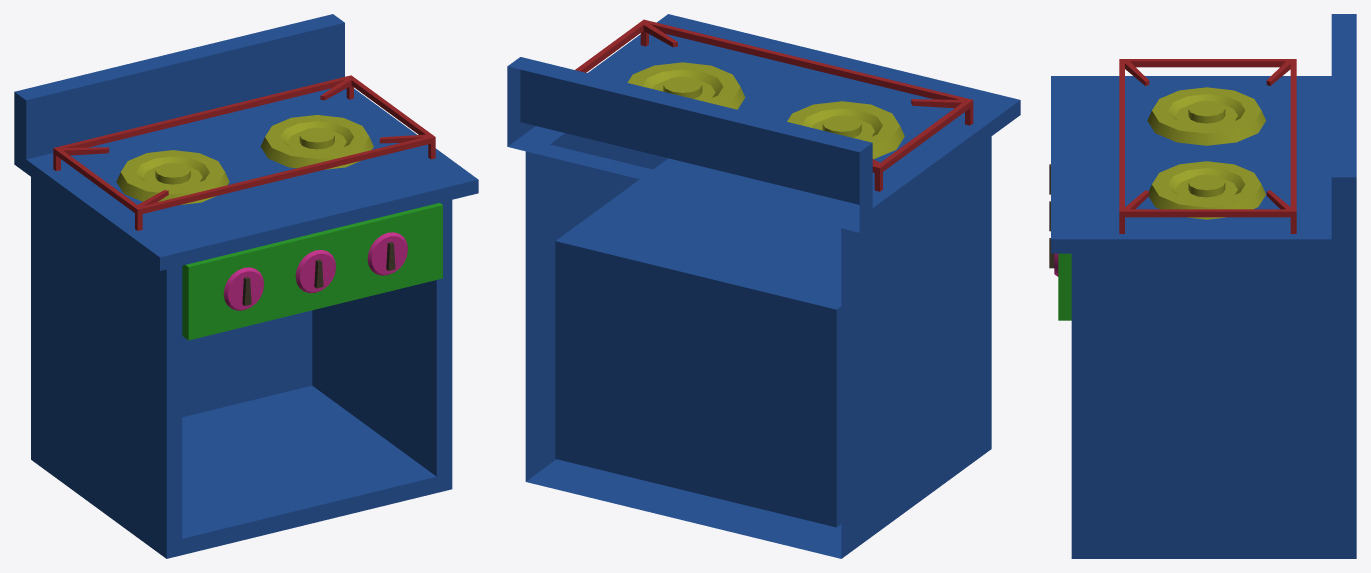
File: staticMesh_prop_basecooker.fbx
3 views of the same model, side by side, from view 1: azimuth 30°, elevation 25°; view 2: azimuth 150°, elevation 25°; view 3: azimuth 270°, elevation 25° (orthographic). The views are drawn at different scales.
Visible parts, largest first — view 1: polySurface8.001; view 2: polySurface8.001; view 3: polySurface8.001.
Boxes of the visible parts, <box> form: polySurface8.001: <box>14,14,478,558</box>; polySurface8.001: <box>507,14,1020,558</box>; polySurface8.001: <box>1049,14,1356,558</box>.
Bounding box in the file's own units: 230 × 257 × 183.
